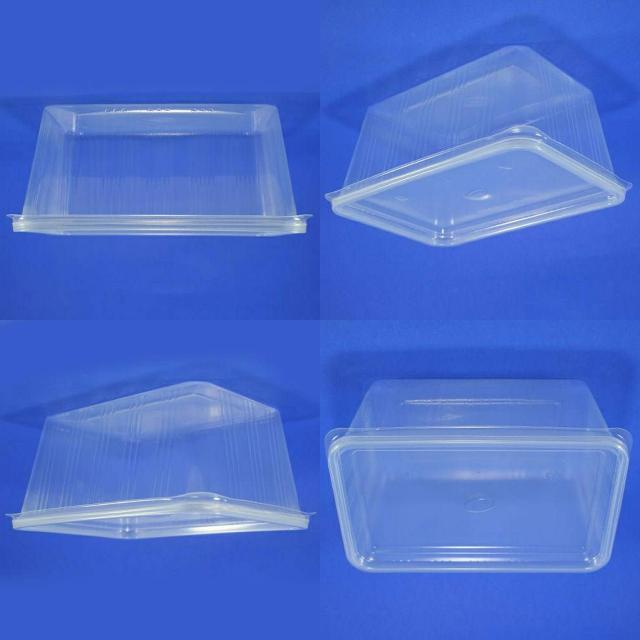Single-Use-Plastic: (326, 48, 630, 246), (325, 380, 631, 572), (12, 381, 309, 539), (11, 104, 308, 236)
